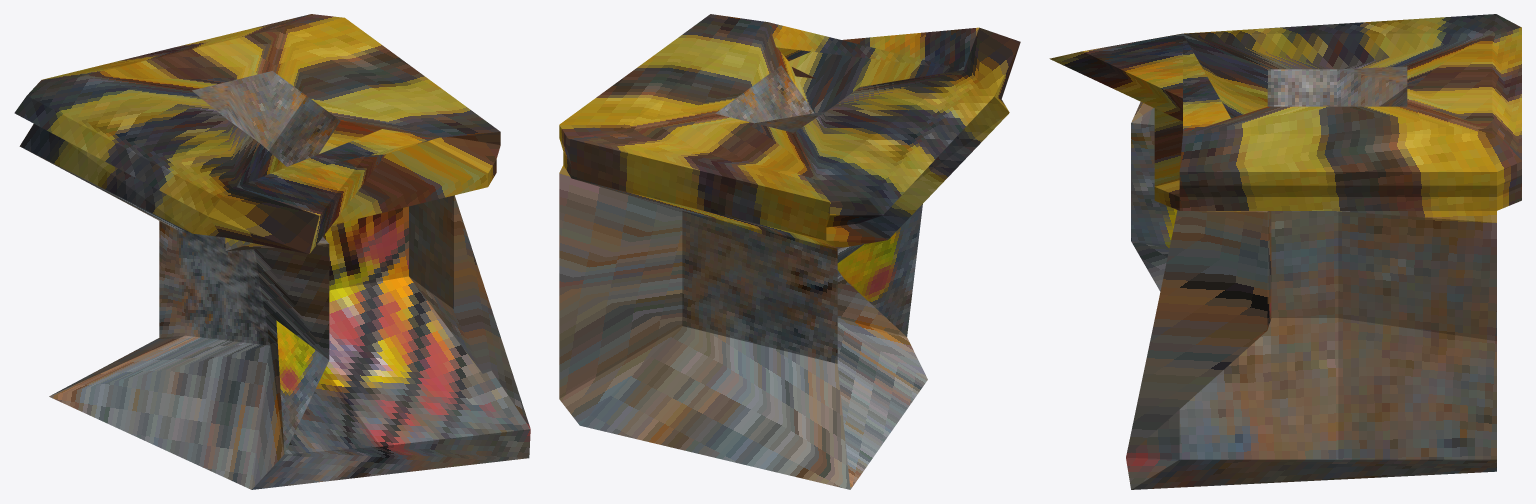
Rendered from CrumpledMetal.gltf.
3 views of the same model, side by side, from view 1: azimuth 30°, elevation 25°; view 2: azimuth 150°, elevation 25°; view 3: azimuth 270°, elevation 25° (orthographic). The views are drawn at different scales.
Visible parts, largest first — view 1: Cube; view 2: Cube; view 3: Cube.
Boxes of the visible parts, x1,y1,x2,y2 form: Cube: [14, 14, 530, 489]; Cube: [559, 14, 1020, 489]; Cube: [1049, 14, 1521, 489].
Size of the model in its own units: 2.16 by 1.94 by 2.57.
Materials: 1 (1 with a texture image).
